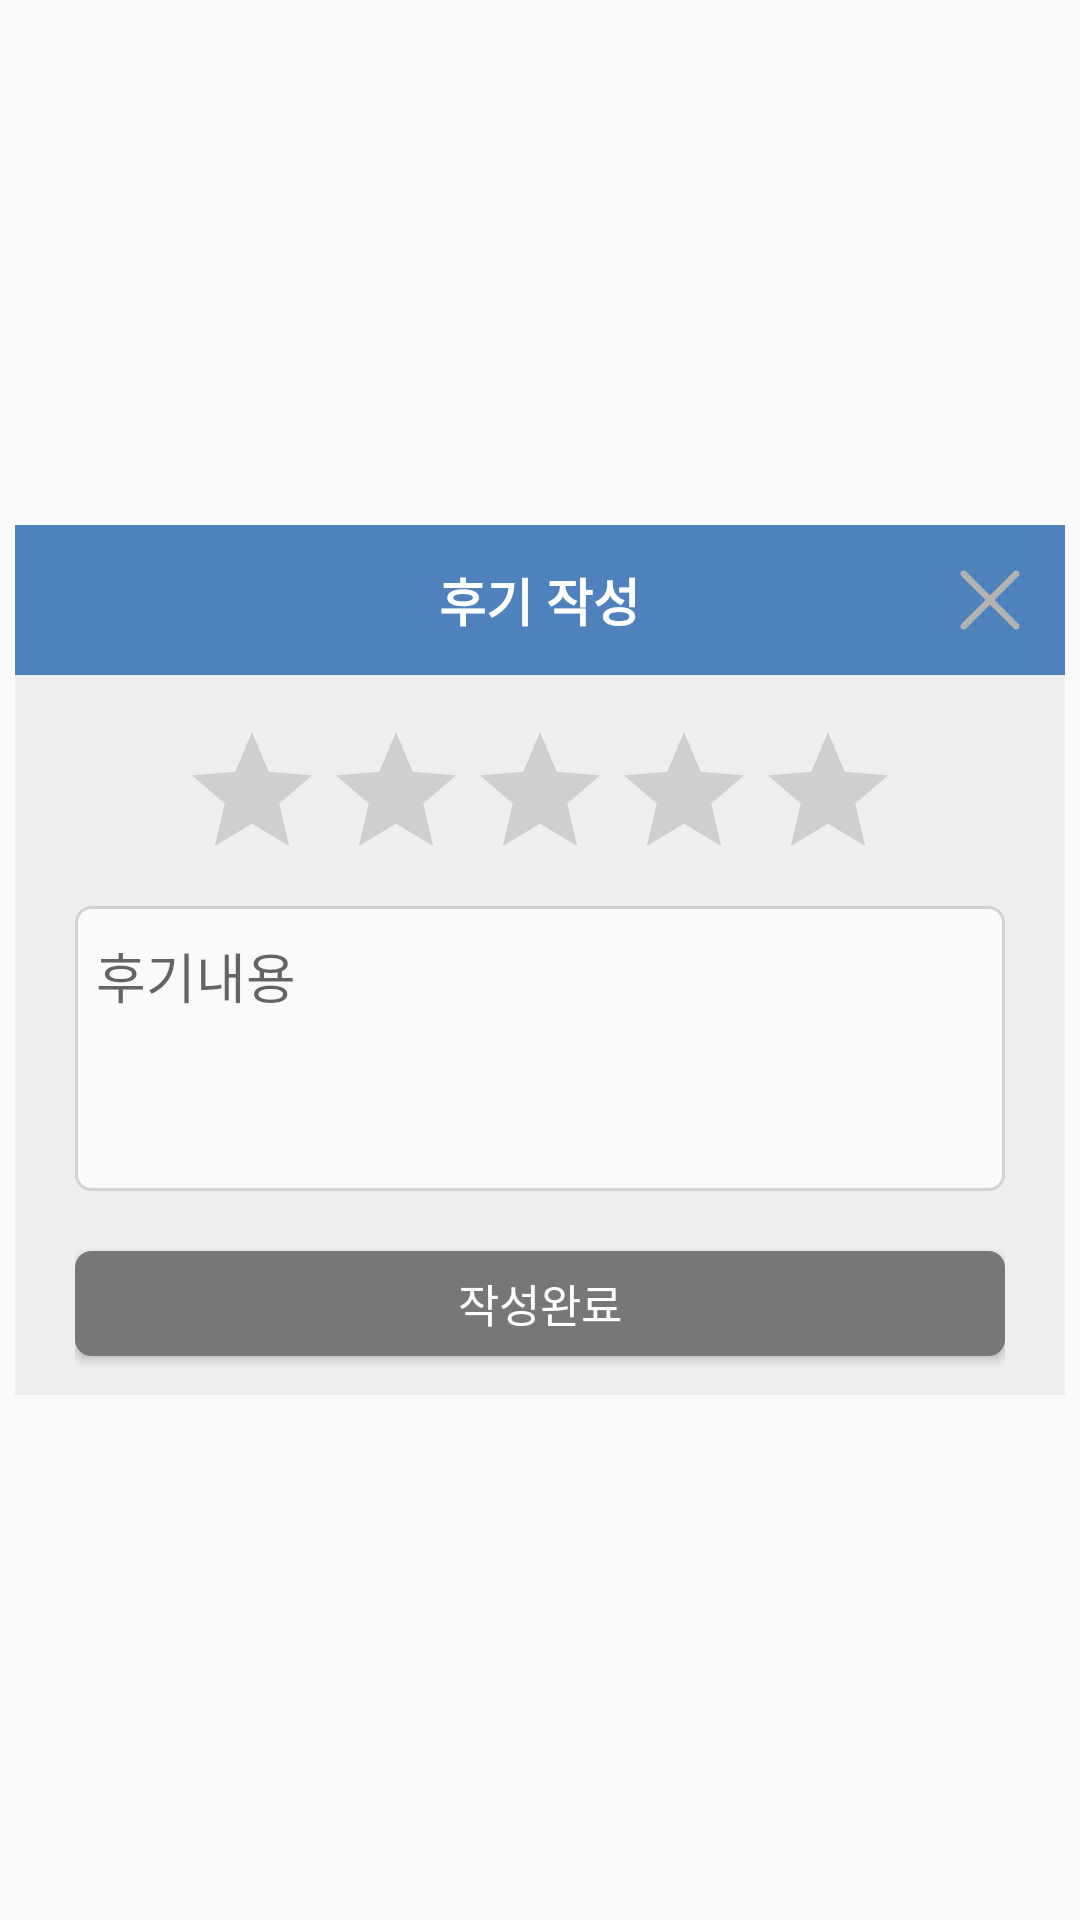

Icons on this 1080*1920 Android screen, each with its box as (x1, y1, x2, y2):
취소: (960, 570, 1020, 630)
